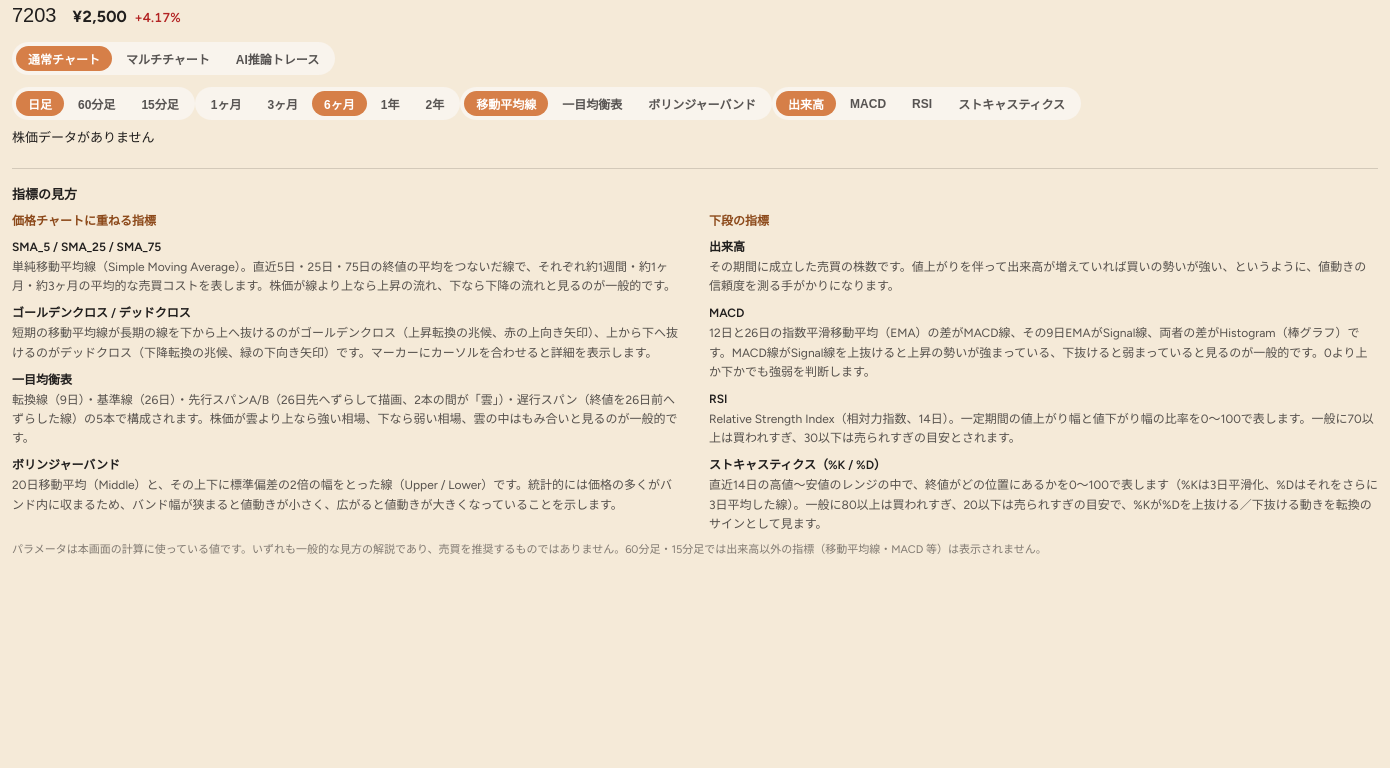
Test: ChartPanel › 「マルチチャート」タブへ切り替えると足種セレクタが消えマルチチャートのパネルが表示される（🆕 P34）
expect the element named "足種" is shown: met, box [12,87,195,120]
Click the button "マルチチャート": (168, 58) [114,46,222,71]
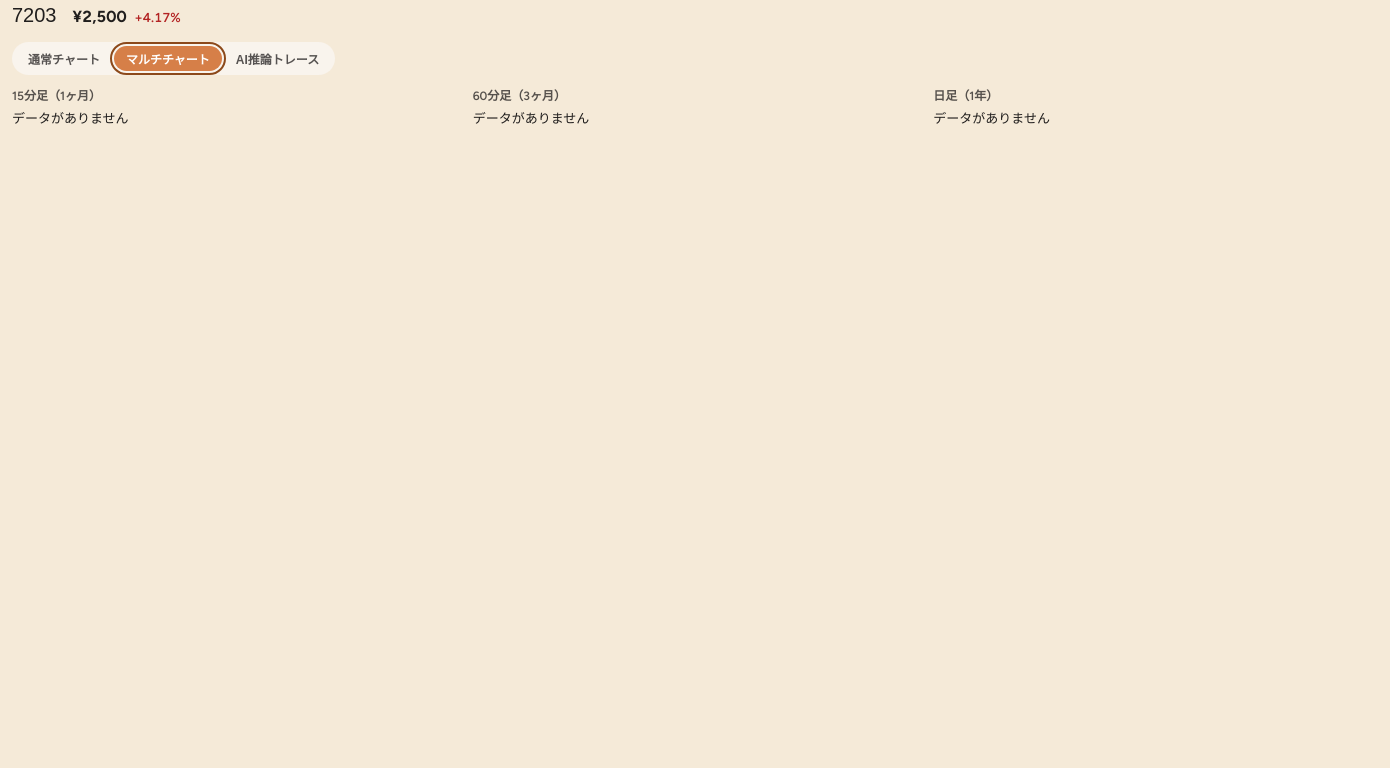
expect the element "足種" is gone: met
expect the heading "15分足（1ヶ月）" is shown: met, box [12,89,101,103]
expect the heading "60分足（3ヶ月）" is shown: met, box [473,89,566,103]
